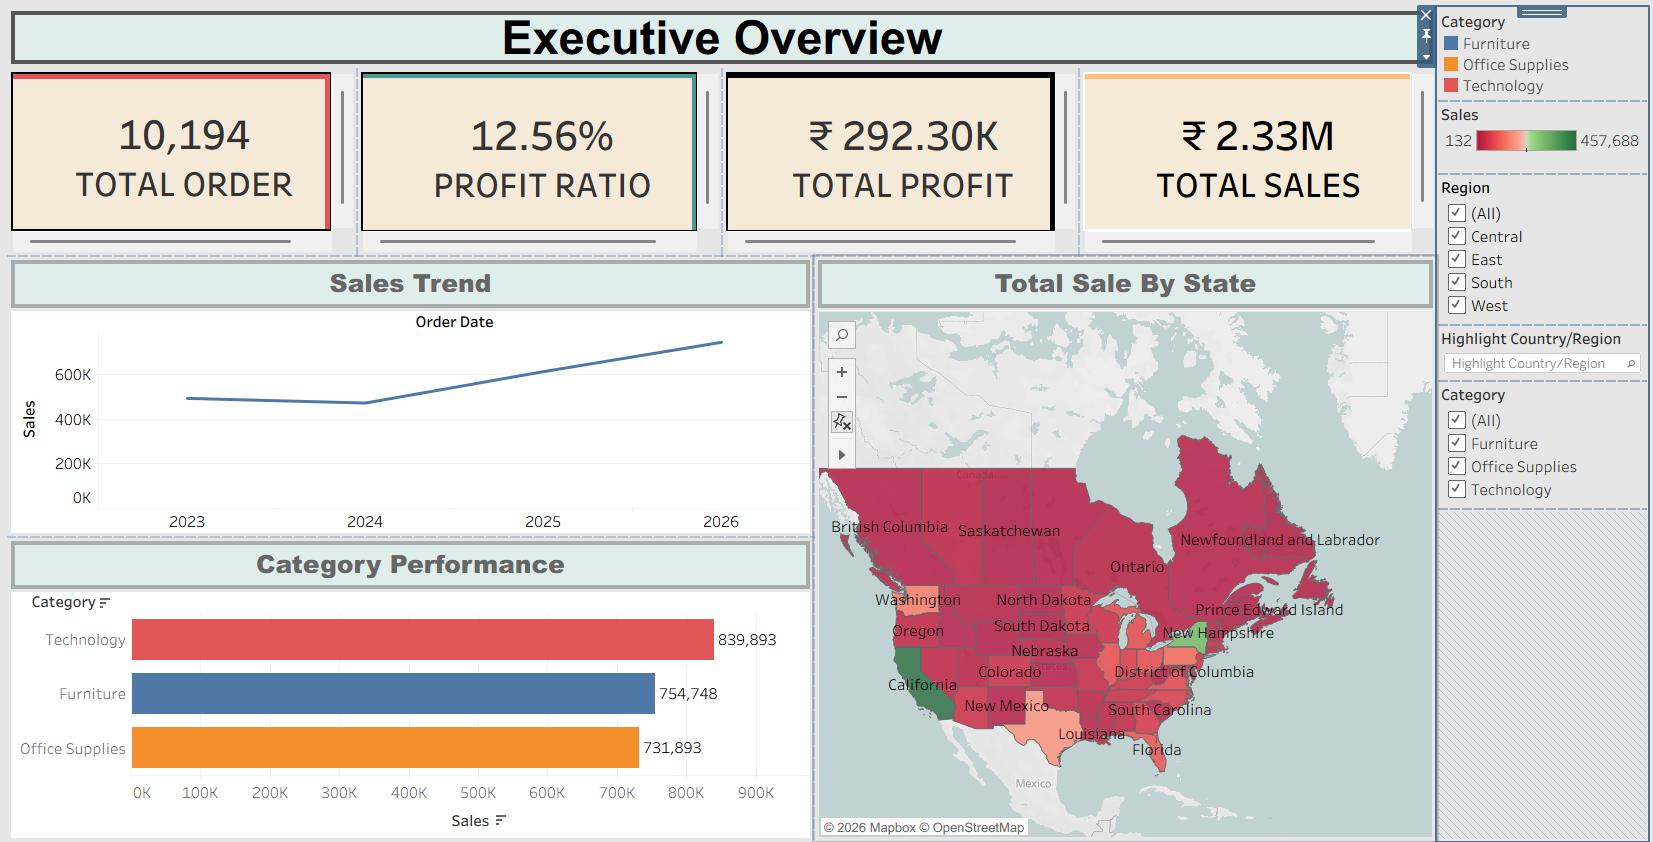

Layout of this report page (visuals, bound fields, positions):
{"tool":"tableau","page":{"name":"Executive Overview","canvas":[1000,1000],"units":"permille","ordinal":1},"visuals":[{"type":"title","box":[4.8,9.4,863,71.7]},{"type":"legend","title":"Category Performance","param":"[federated.11aeaxj0xg2ykf155qtt01831f89].[none:Category:nk]","box":[867.8,9.4,127.3,109.3]},{"type":"worksheet","title":"total order","mark":"Automatic","box":[4.8,81.1,210.9,220.9]},{"type":"worksheet","title":"profit ratio","mark":"Automatic","box":[215.8,81.1,220.4,220.9]},{"type":"worksheet","title":"total profit","mark":"Automatic","box":[436.1,81.1,215.8,220.9]},{"type":"worksheet","title":"total sales","mark":"Automatic","box":[651.9,81.1,215.9,220.9]},{"type":"legend","title":"Sale By State","param":"[federated.11aeaxj0xg2ykf155qtt01831f89].[sum:Sales:qk]","box":[867.8,118.7,127.3,85.8]},{"type":"filter","title":"Sales Trend","param":"[federated.11aeaxj0xg2ykf155qtt01831f89].[none:Region:nk]","box":[867.8,204.5,127.3,177.4]},{"type":"worksheet","title":"Sales Trend","mark":"Line","rows":["Sales"],"cols":["Order Date"],"box":[4.8,302,487,330.2]},{"type":"worksheet","title":"Sale By State","mark":"Automatic","box":[491.9,302,376,688.6]},{"type":"highlighter","title":"Sale By State","param":"[federated.11aeaxj0xg2ykf155qtt01831f89].[none:Country/Region:nk]","box":[867.8,381.9,127.3,65.8]},{"type":"filter","title":"Category Performance","param":"[federated.11aeaxj0xg2ykf155qtt01831f89].[none:Category:nk]","box":[867.8,447.7,127.3,150.4]},{"type":"worksheet","title":"Category Performance","mark":"Automatic","rows":["Category"],"cols":["Sales"],"box":[4.8,632.2,487,358.4]}]}

Visuals, with their boxes on the dashboard's canvas, which has no fixed pixel size, in thousandths of its width and height (x1, y1, x2, y2). These are canvas units, not pixel positions in the 1653x842 screenshot, which may show the page scaled, cropped or inside an application window:
title: (left=5, top=9, right=868, bottom=81)
"Category Performance" legend: (left=868, top=9, right=995, bottom=119)
"total order" worksheet: (left=5, top=81, right=216, bottom=302)
"profit ratio" worksheet: (left=216, top=81, right=436, bottom=302)
"total profit" worksheet: (left=436, top=81, right=652, bottom=302)
"total sales" worksheet: (left=652, top=81, right=868, bottom=302)
"Sale By State" legend: (left=868, top=119, right=995, bottom=204)
"Sales Trend" filter: (left=868, top=204, right=995, bottom=382)
"Sales Trend" worksheet (Line marks): (left=5, top=302, right=492, bottom=632)
"Sale By State" worksheet: (left=492, top=302, right=868, bottom=991)
"Sale By State" highlighter: (left=868, top=382, right=995, bottom=448)
"Category Performance" filter: (left=868, top=448, right=995, bottom=598)
"Category Performance" worksheet: (left=5, top=632, right=492, bottom=991)
